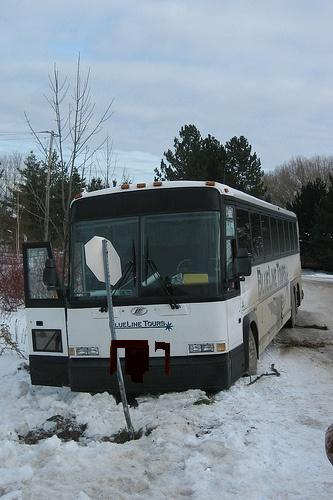tampered: (110, 341, 170, 383)
